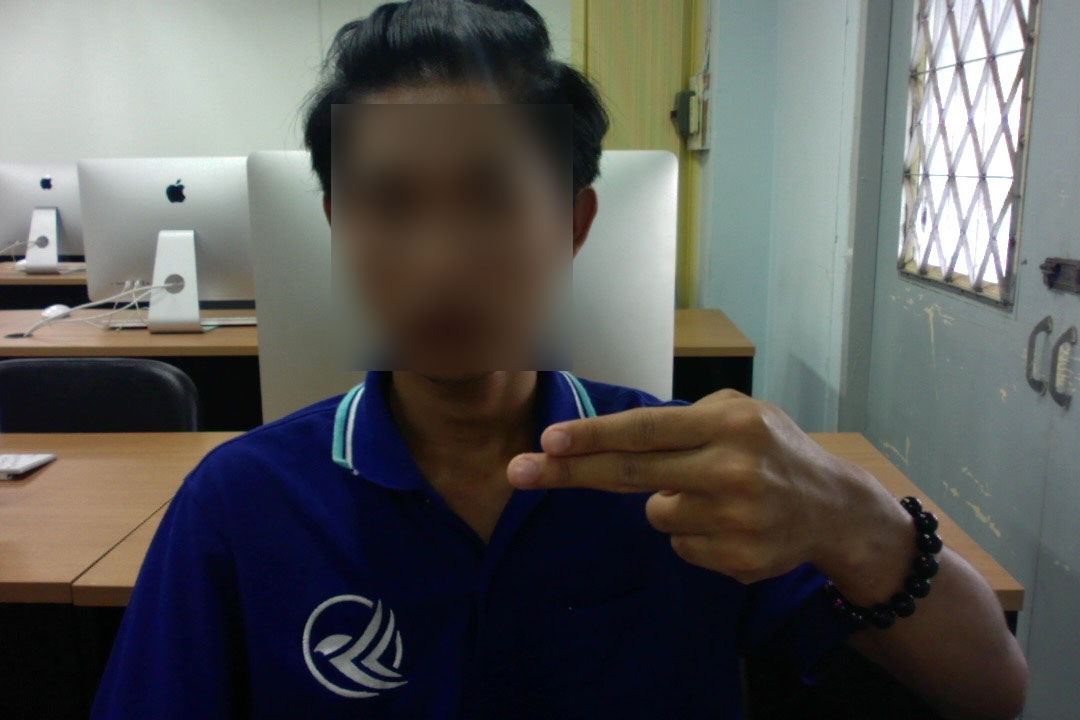hor: (477, 382, 860, 588)
